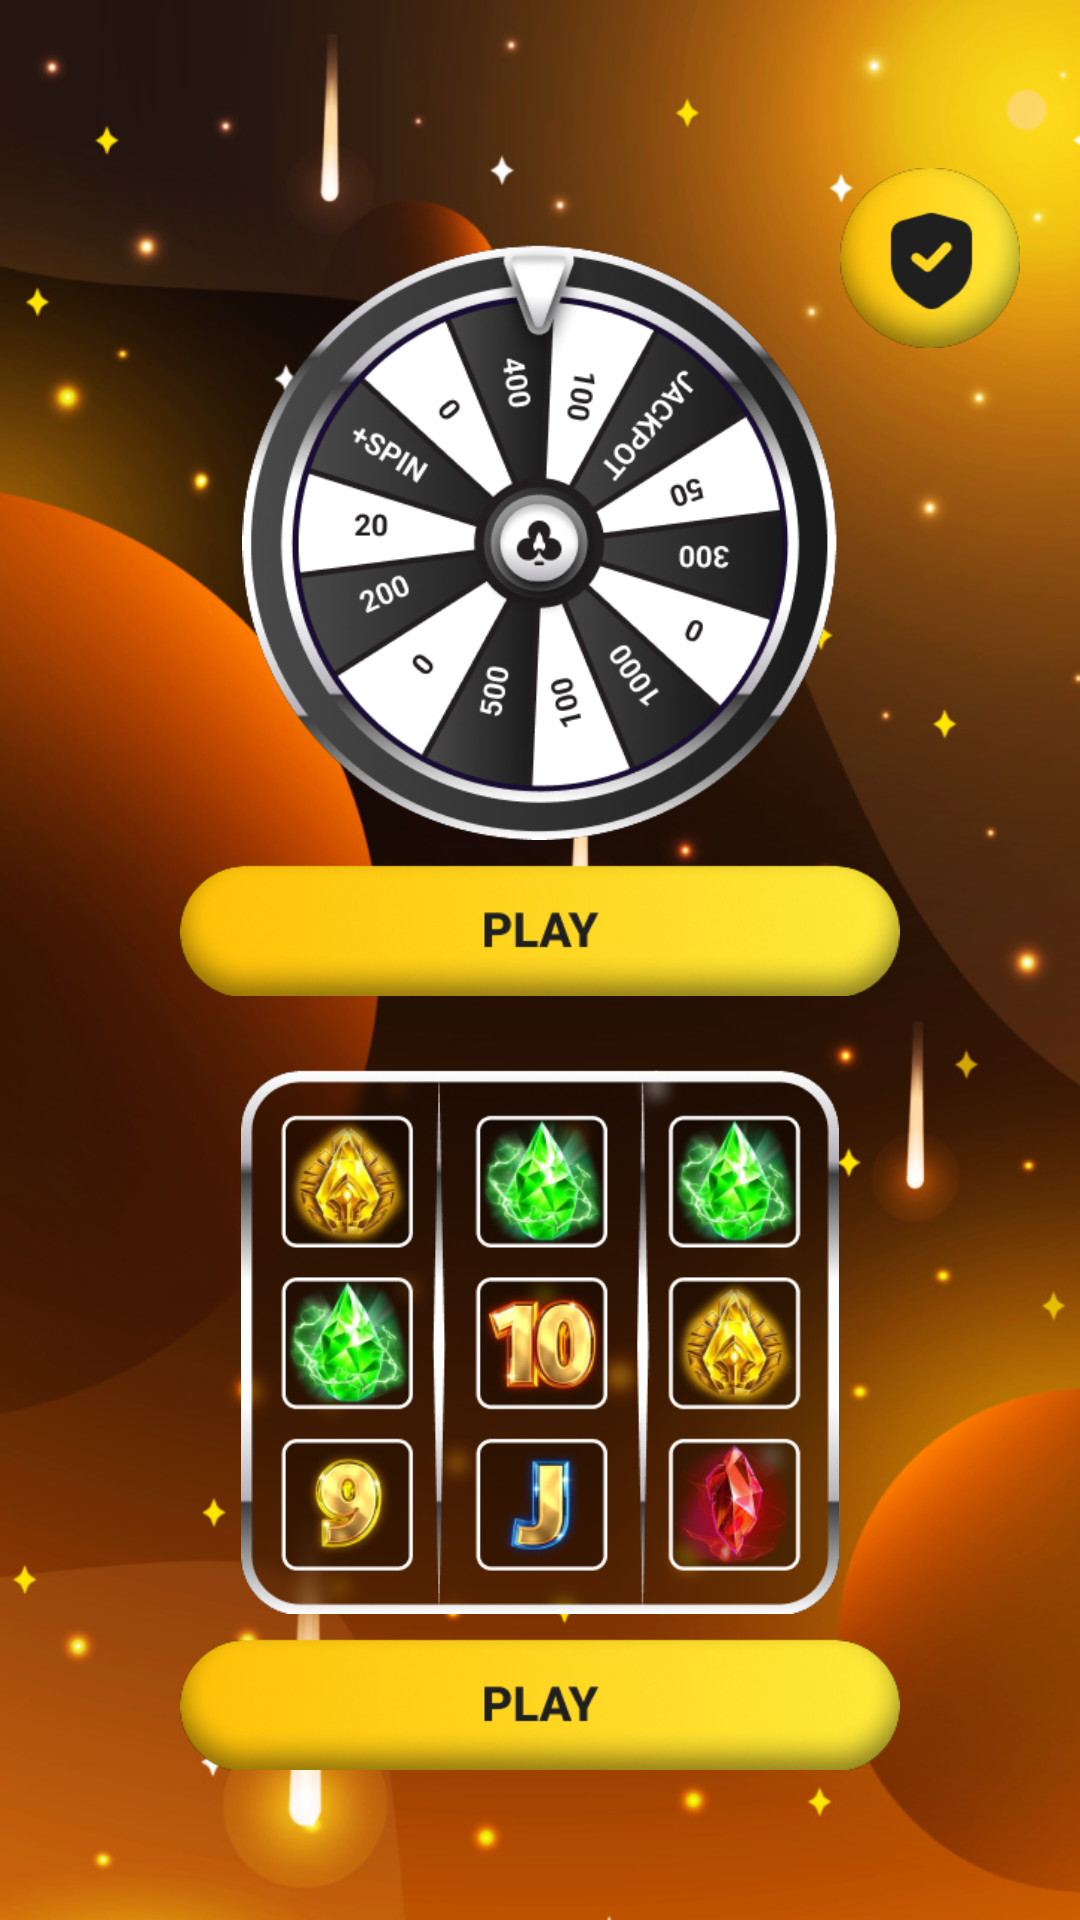

Screen size 1080x1920. Icon name, then its center in pixels as point (x, y):
privacy: point (930, 258)
